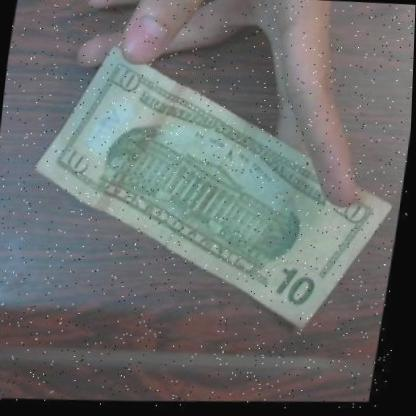ten-back: (7, 25, 415, 354)
